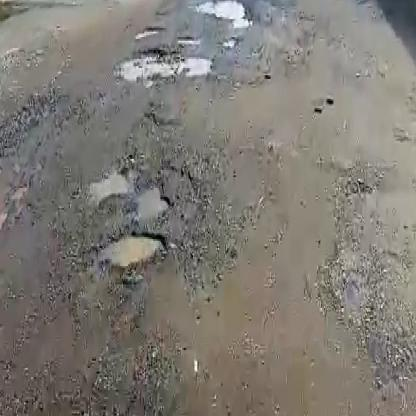pothole: (91, 171, 172, 218), (117, 44, 209, 82), (98, 227, 170, 273), (194, 0, 252, 22), (137, 21, 168, 35)
